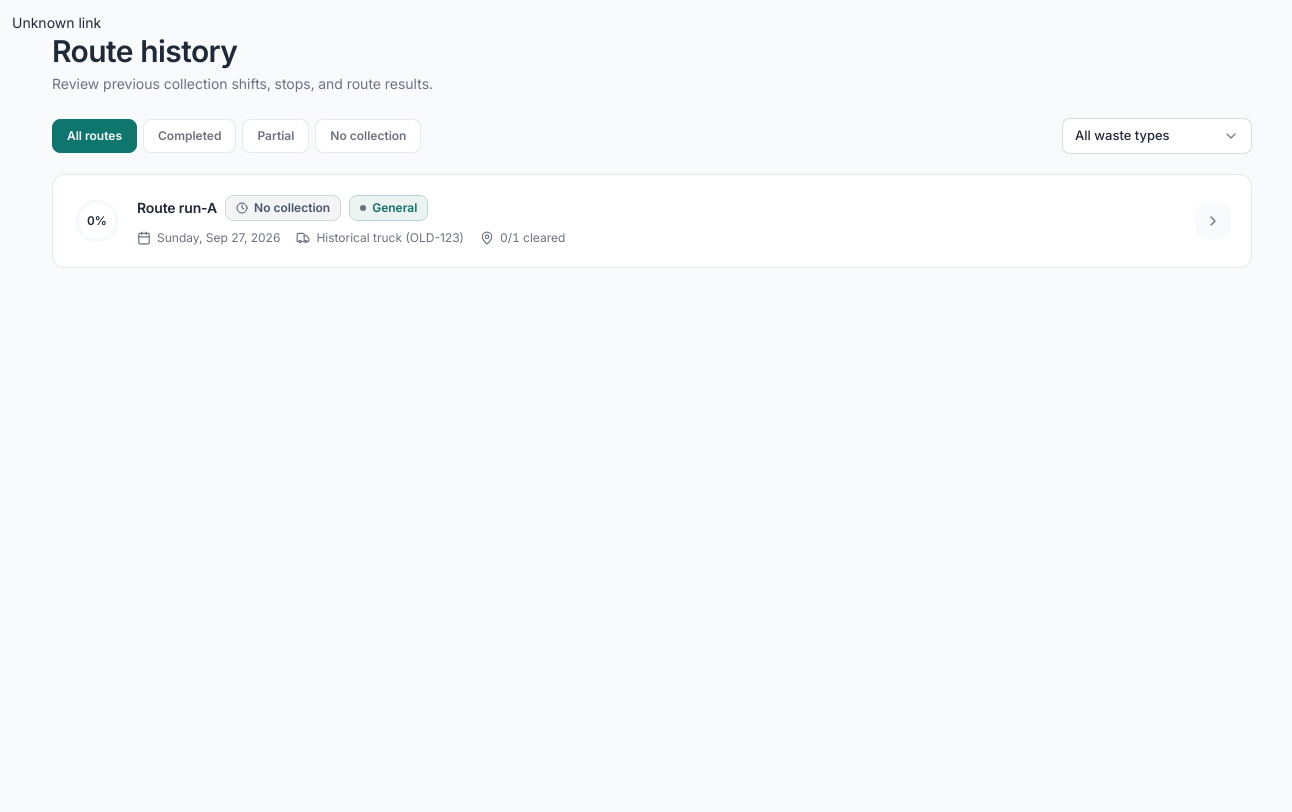
Scenario: keeps filters available while a new status loads and restores cached results immediately
Click the button "Completed" at (190, 136), box [143,118,236,152]
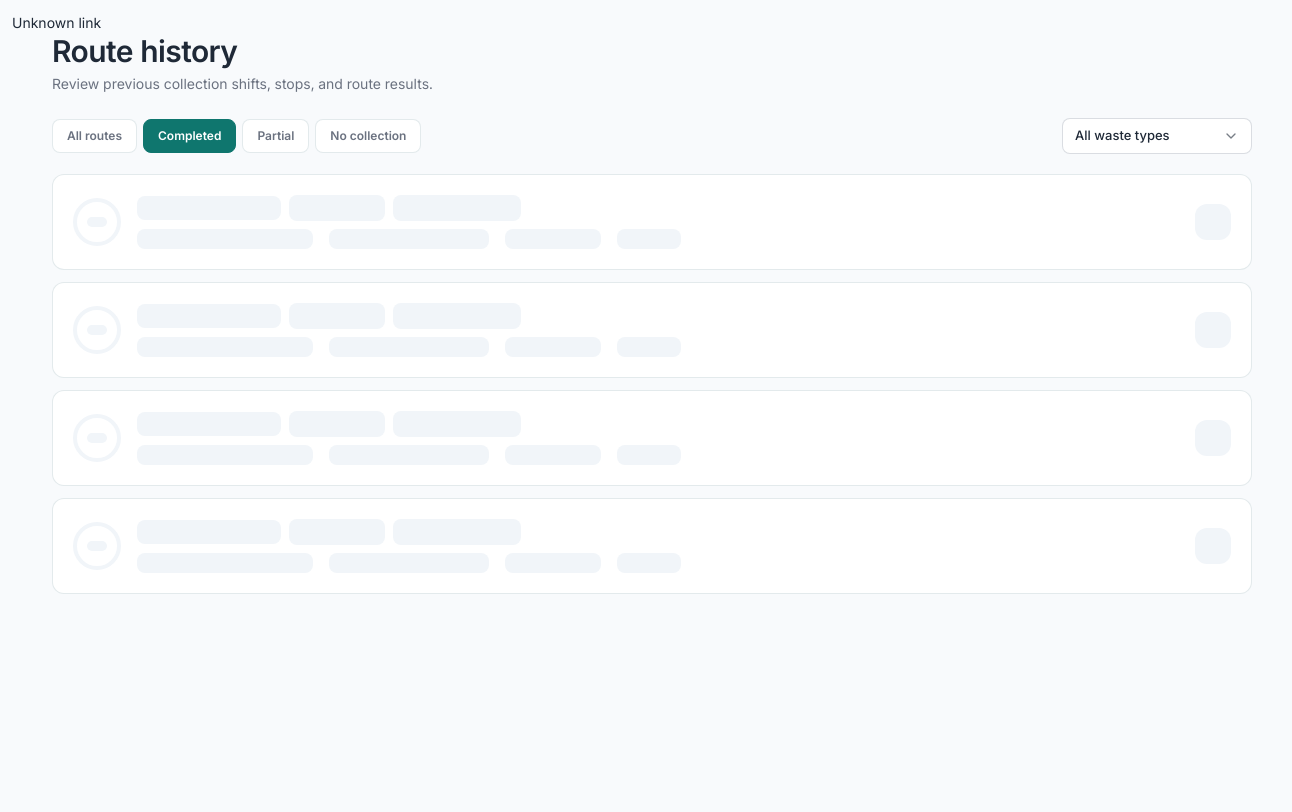
Expected: the heading "Route history" is shown, [52,33,237,69]
Now the text "Route run-A" is gone
Click the button "All routes" at (94, 136), box [52,118,137,152]
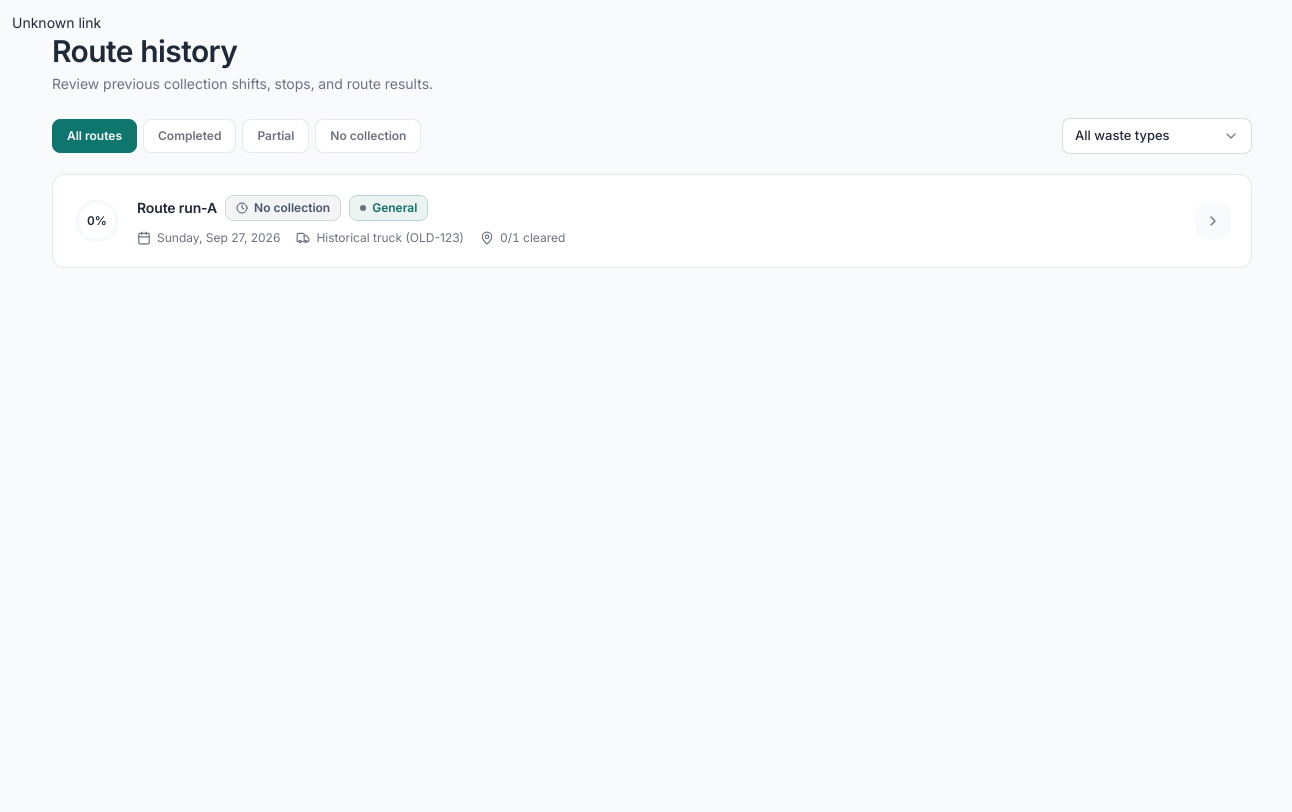
Now the message is gone
Now the text "Route run-A" is shown, box [137,197,217,218]
